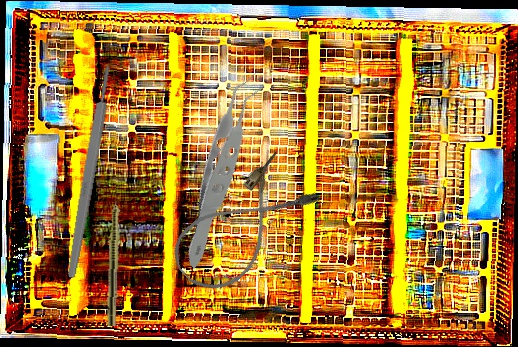Cannula: (162, 148, 324, 305)
Handpiece: (106, 182, 123, 327)
Scalpel Handle: (64, 63, 116, 280)
Tissue Forceps: (121, 66, 331, 271)
